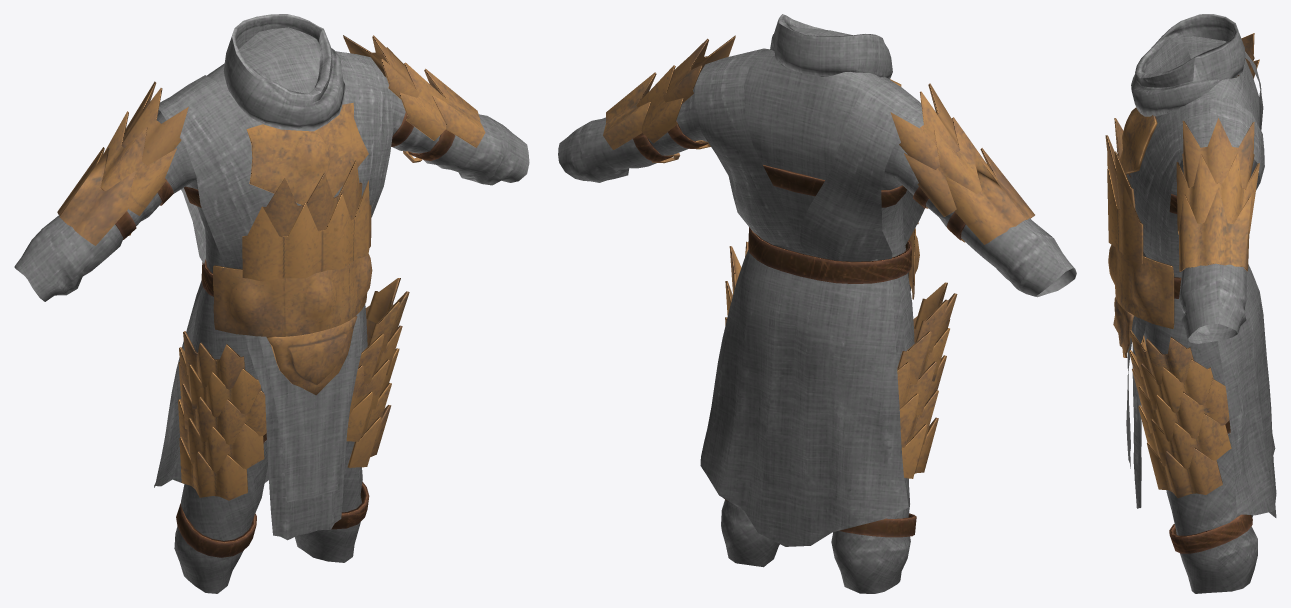
The model's file is easterling_torso.fbx.
3 renders of one model, left to right at view 1: azimuth 30°, elevation 25°; view 2: azimuth 150°, elevation 25°; view 3: azimuth 270°, elevation 25°, orthographic. The views are drawn at different scales.
Visible parts, largest first — view 1: easterling_torso; view 2: easterling_torso; view 3: easterling_torso.
Part boxes in pixels (x1,y1,x2,y2): easterling_torso: (14,14,529,593); easterling_torso: (558,14,1076,593); easterling_torso: (1105,14,1276,593).
Bounding box in the file's own units: 1.26 × 0.3802 × 1.3.
Materials: 1 (1 with a texture image).
